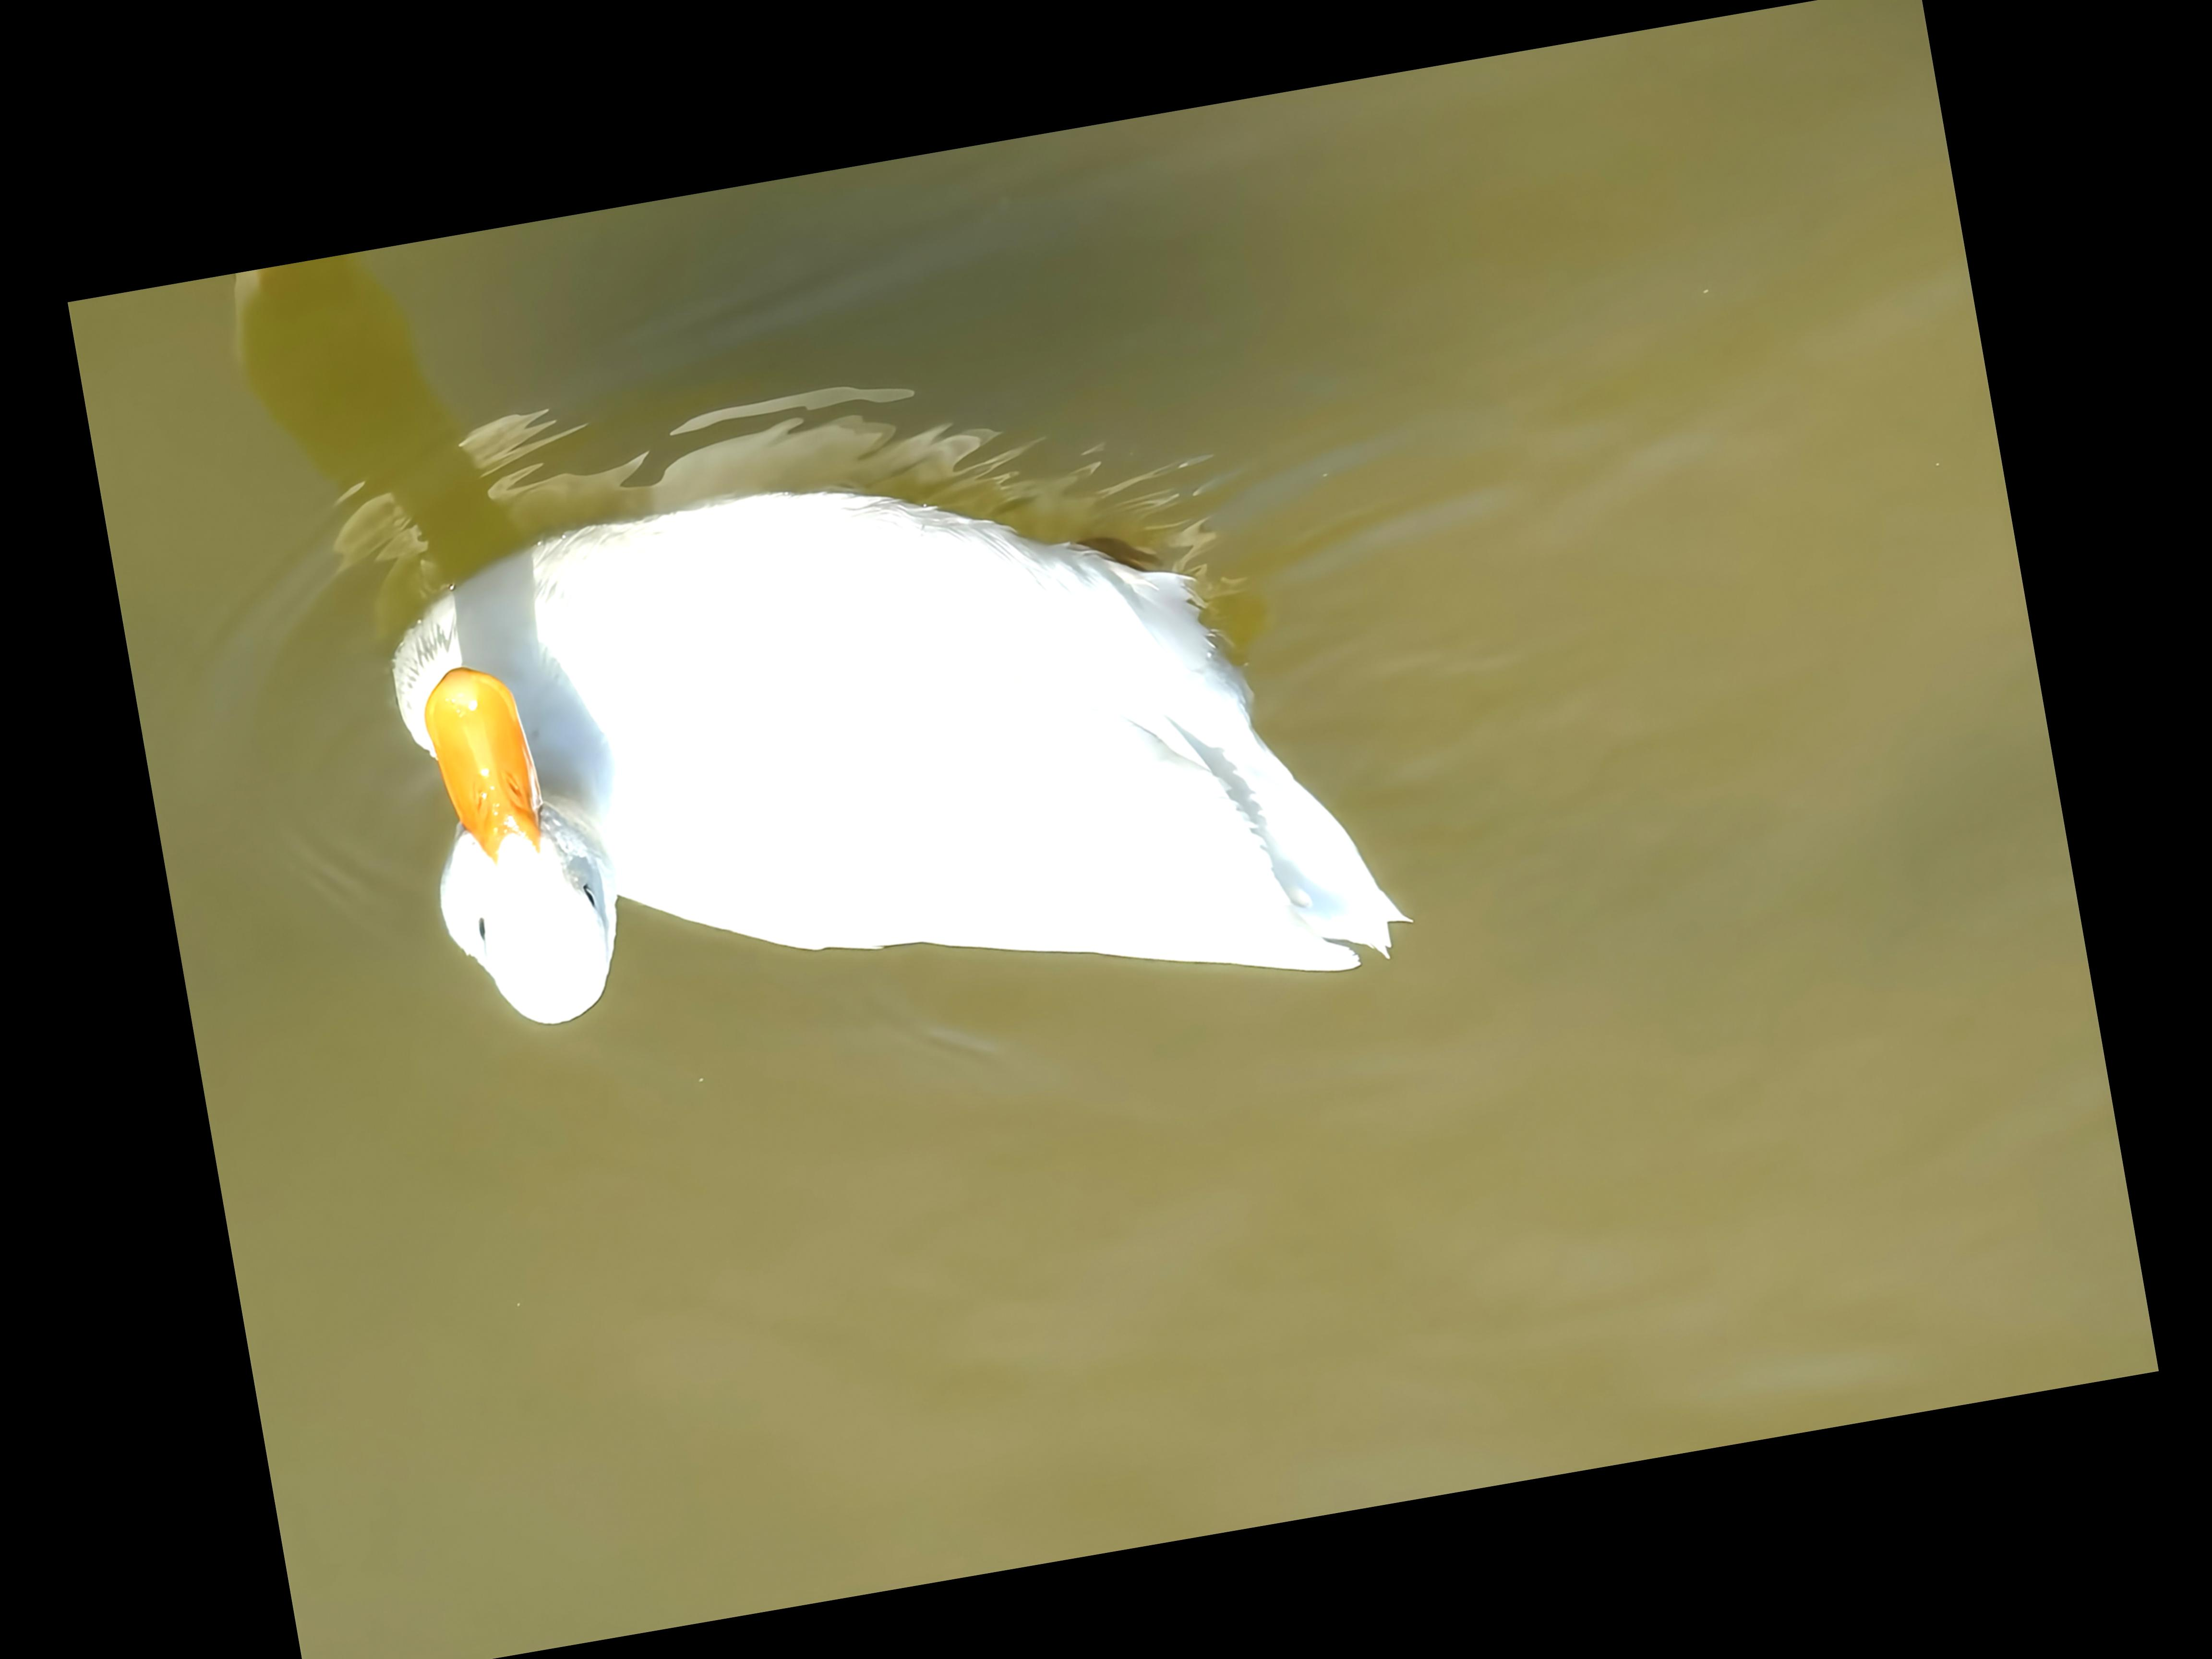duck: (294, 335, 1430, 1141)
